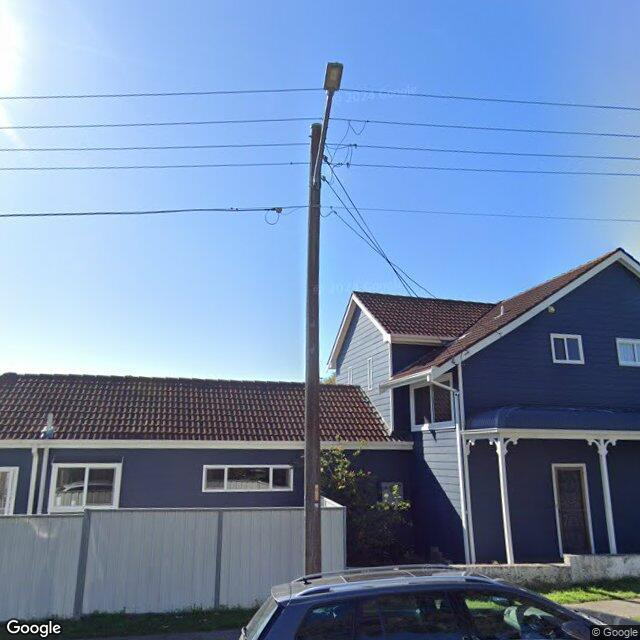streetlight: (312, 61, 344, 188)
timber-pole: (304, 123, 324, 575)
